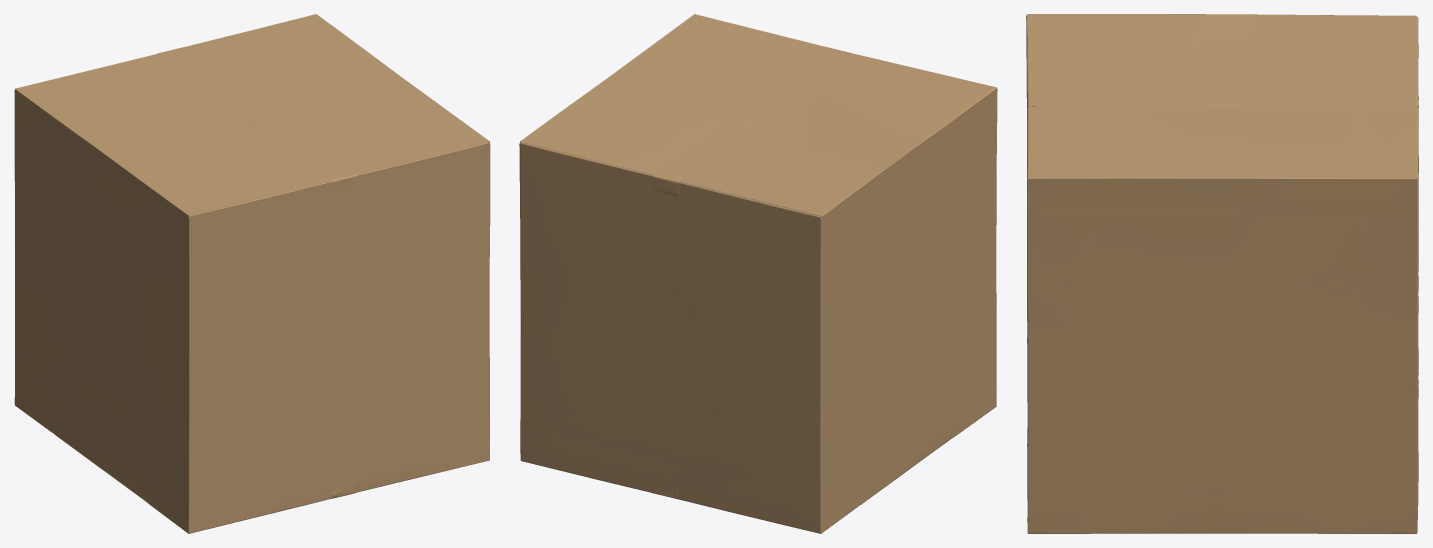
File: box_corrugated_white_b09.glb
3 views of the same model, side by side, from view 1: azimuth 30°, elevation 25°; view 2: azimuth 150°, elevation 25°; view 3: azimuth 270°, elevation 25° (orthographic). The views are drawn at different scales.
Size of the model in its own units: 0.3609 by 0.3643 by 0.3631.
